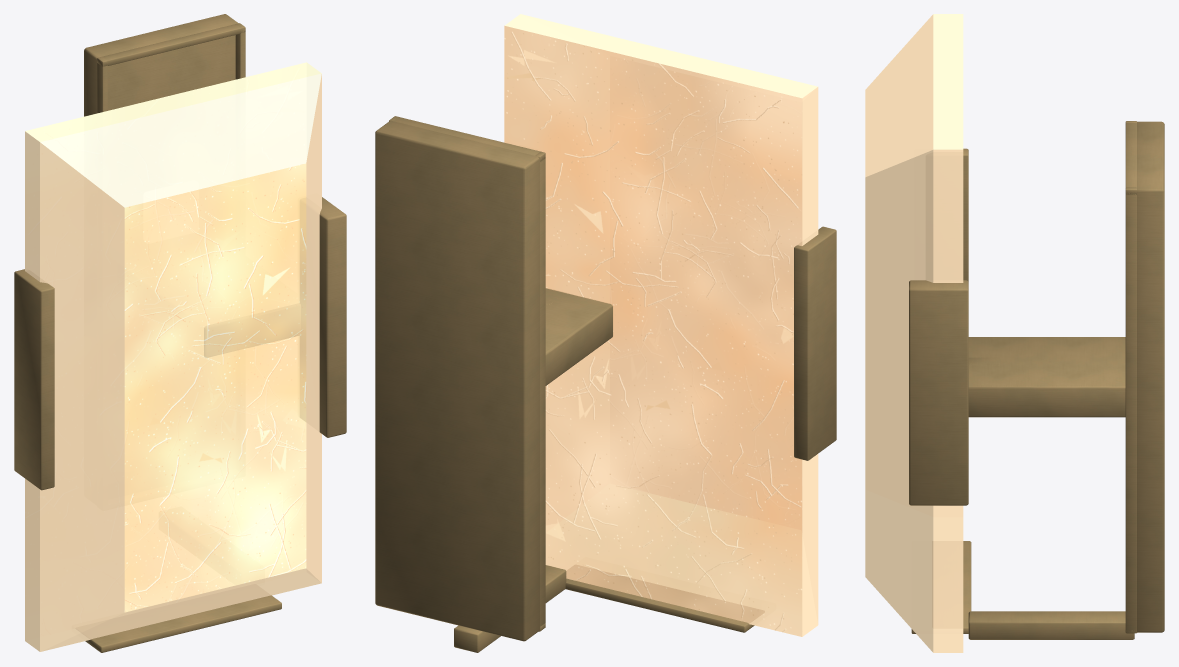
The model's file is marble-shade-solid-brass-wall-sconce-gold-or-black.glb.
3 renders of one model, left to right at view 1: azimuth 30°, elevation 25°; view 2: azimuth 150°, elevation 25°; view 3: azimuth 270°, elevation 25°, orthographic. The views are drawn at different scales.
Parts seen in each view (by area): view 1: Shade, Backplate, ClipLeft, ClipRight, BottomLedge, PlateLip_-1.5_4.38, ClipRightArm, Arm, PlateLip_-1.5_-4.5, PlateLip_1.38_-4.5; view 2: Shade, Backplate, ClipLeft, BottomLedge, Arm, PlateLip_-1.5_-4.5, LedgeStem, PlateLip_-1.5_4.38; view 3: Shade, Backplate, ClipRight, Arm, PlateLip_1.38_-4.5, LedgeStem, PlateLip_-1.5_4.38, ClipLeft, BottomLedge.
Part boxes in pixels (box(x1,y1,x2,y2)): Shade: box(25, 62, 321, 651); Backplate: box(84, 14, 238, 116); ClipLeft: box(14, 269, 54, 490); ClipRight: box(300, 197, 346, 437); BottomLedge: box(85, 595, 281, 652); PlateLip_-1.5_4.38: box(97, 23, 245, 66); ClipRightArm: box(250, 303, 300, 346); Arm: box(204, 321, 249, 357); PlateLip_-1.5_-4.5: box(97, 56, 107, 113); PlateLip_1.38_-4.5: box(235, 23, 245, 79); Shade: box(504, 14, 818, 636); Backplate: box(375, 120, 539, 641); ClipLeft: box(794, 226, 836, 460); BottomLedge: box(565, 565, 764, 632); Arm: box(545, 288, 612, 385); PlateLip_-1.5_-4.5: box(535, 151, 545, 631); LedgeStem: box(454, 565, 566, 652); PlateLip_-1.5_4.38: box(389, 116, 545, 161); Shade: box(865, 14, 963, 652); Backplate: box(1137, 121, 1164, 632); ClipRight: box(909, 280, 968, 505); Arm: box(968, 337, 1125, 417); PlateLip_1.38_-4.5: box(1125, 187, 1136, 632); LedgeStem: box(968, 611, 1134, 639); PlateLip_-1.5_4.38: box(1125, 123, 1137, 194); ClipLeft: box(963, 148, 968, 281); BottomLedge: box(911, 541, 971, 633).
Bounding box in the file's own units: 0.1659 × 0.2621 × 0.1397.
Materials: 5 (3 with a texture image).
